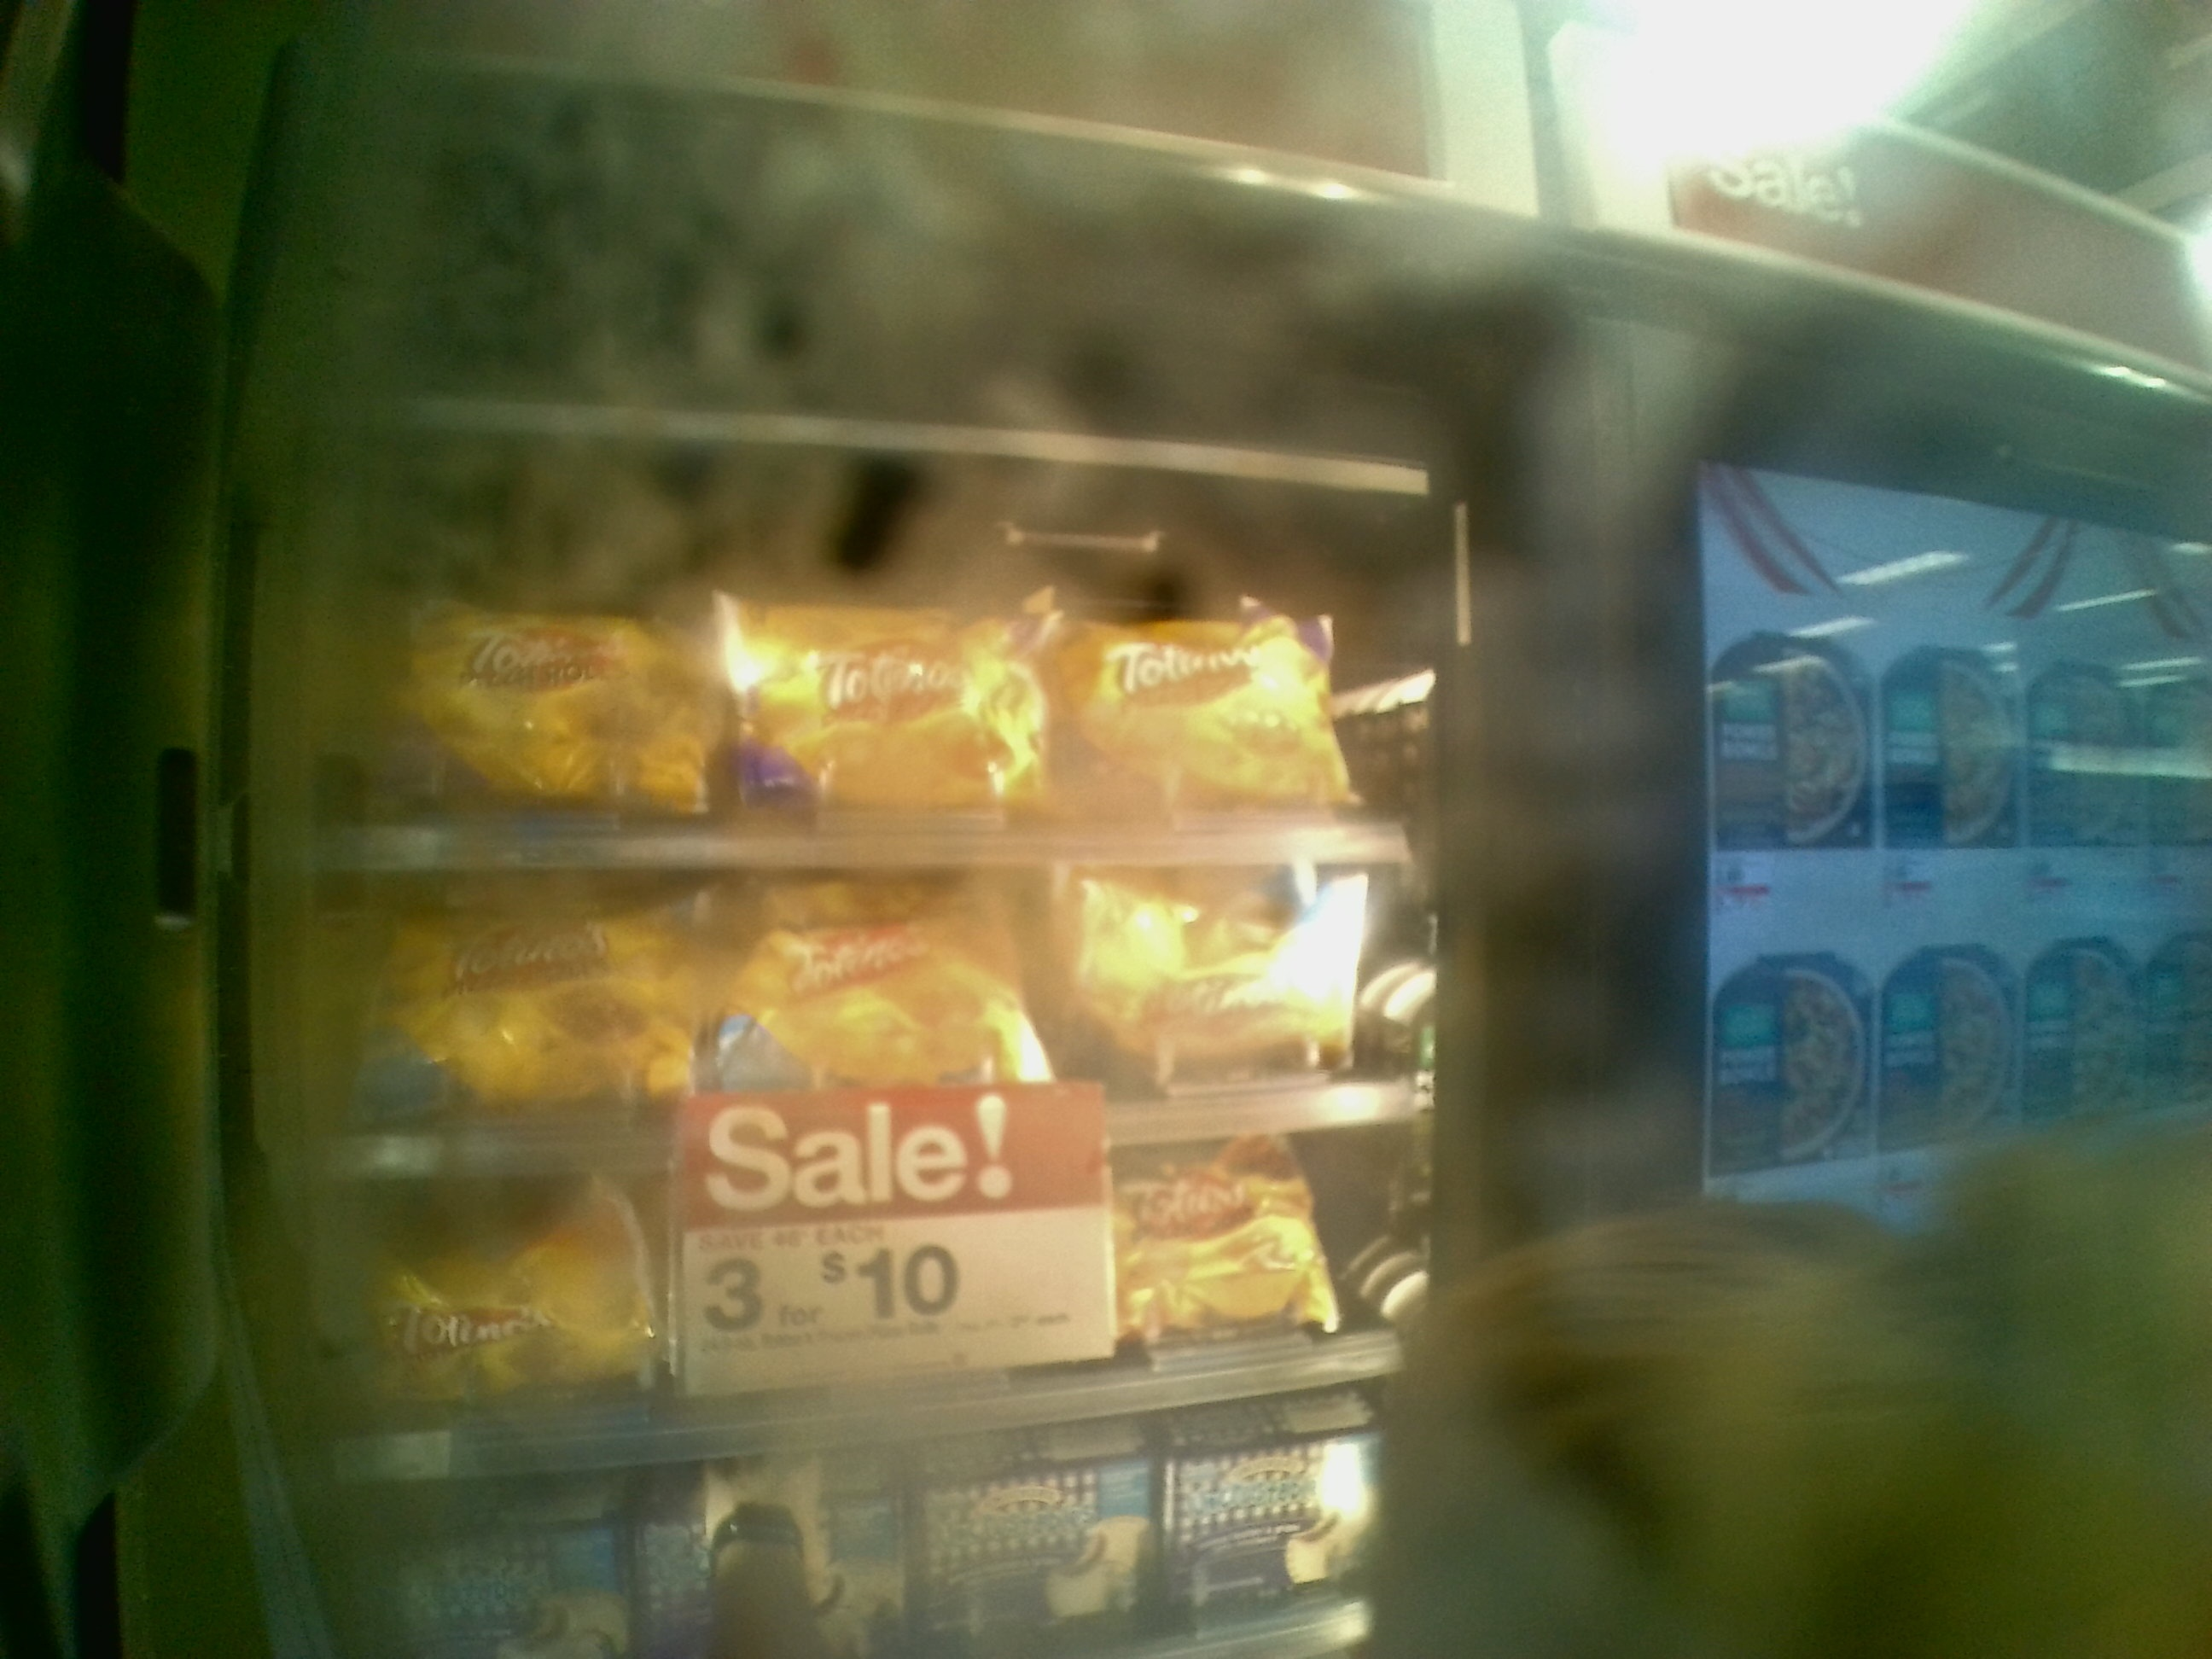shelf: (301, 481, 1432, 859), (286, 854, 1428, 1138), (294, 1157, 1421, 1385)
